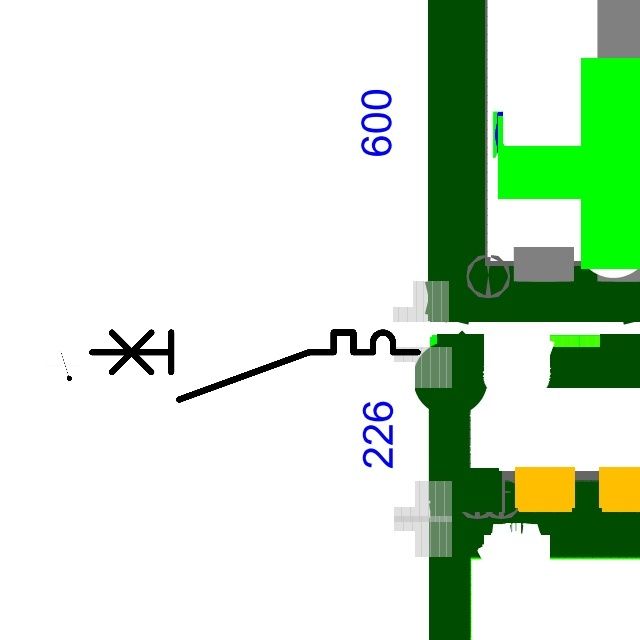interruptor_termomagnetico: (83, 324, 426, 408)
